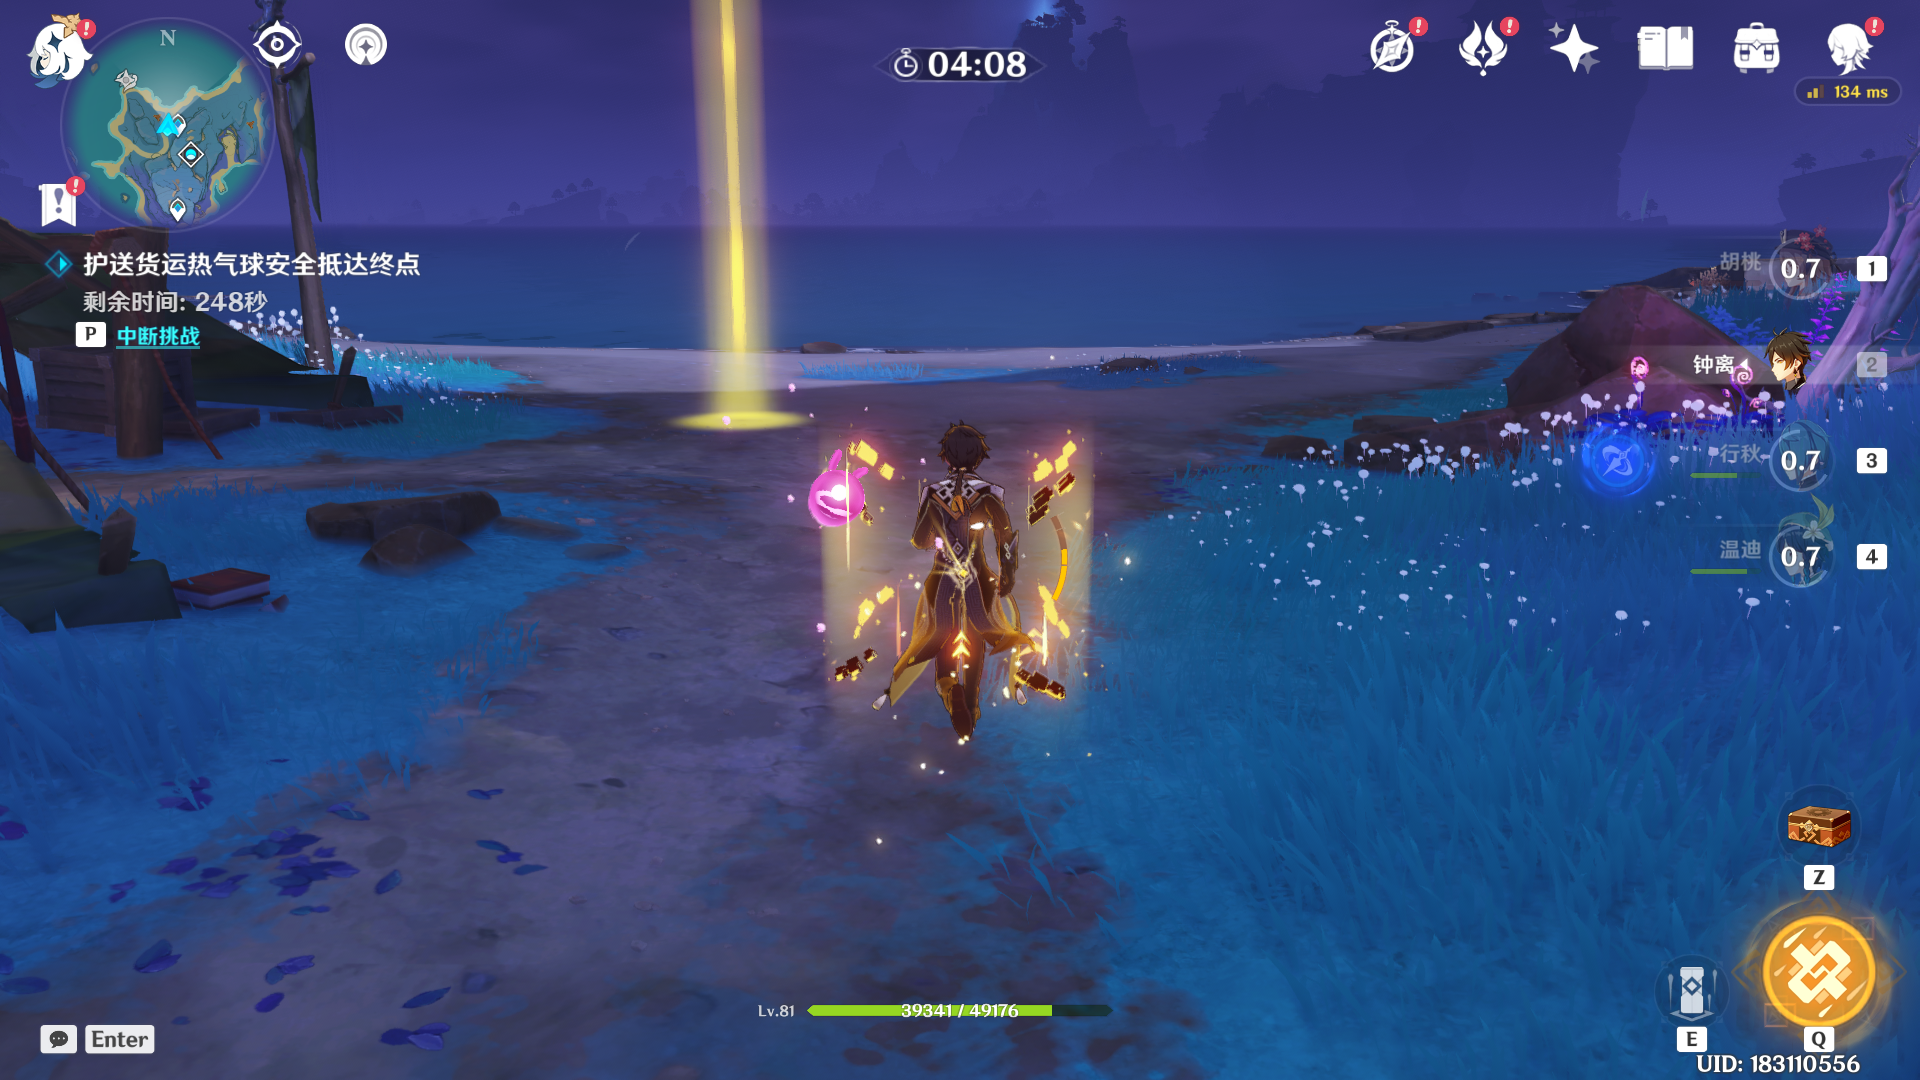character: (814, 398, 1112, 777)
